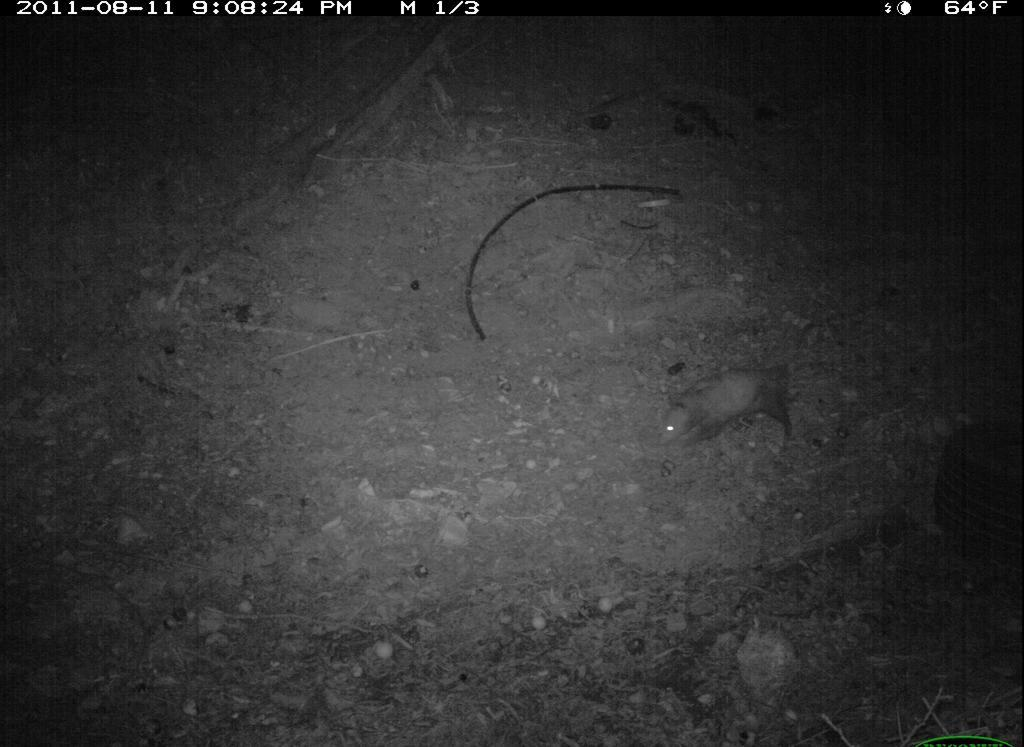opossum: (660, 363, 802, 461)
